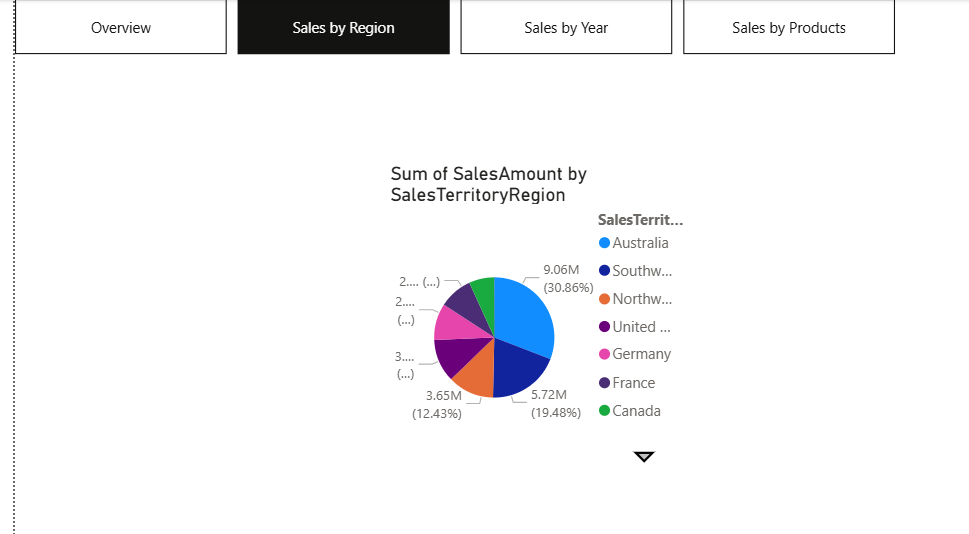

The page's visual inventory and layout, read from the dashboard file:
{"tool":"powerbi","page":{"name":"Sales by Region","canvas":[1280,720],"ordinal":1},"visuals":[{"type":"pieChart","fields":{"Y":["Sum(FactInternetSales.SalesAmount)"],"Category":["DimSalesTerritory.SalesTerritoryRegion"]},"box":[335.5,147.8,280.2,280.2],"z":0}]}

Visuals, with their boxes on the page's 1280x720 design canvas (x1, y1, x2, y2). These are canvas units, not pixel positions in the 969x534 screenshot, which may show the page scaled, cropped or inside an application window:
pieChart - Sum(FactInternetSales.SalesAmount) x DimSalesTerritory.SalesTerritoryRegion: l=336, t=148, r=616, b=428
